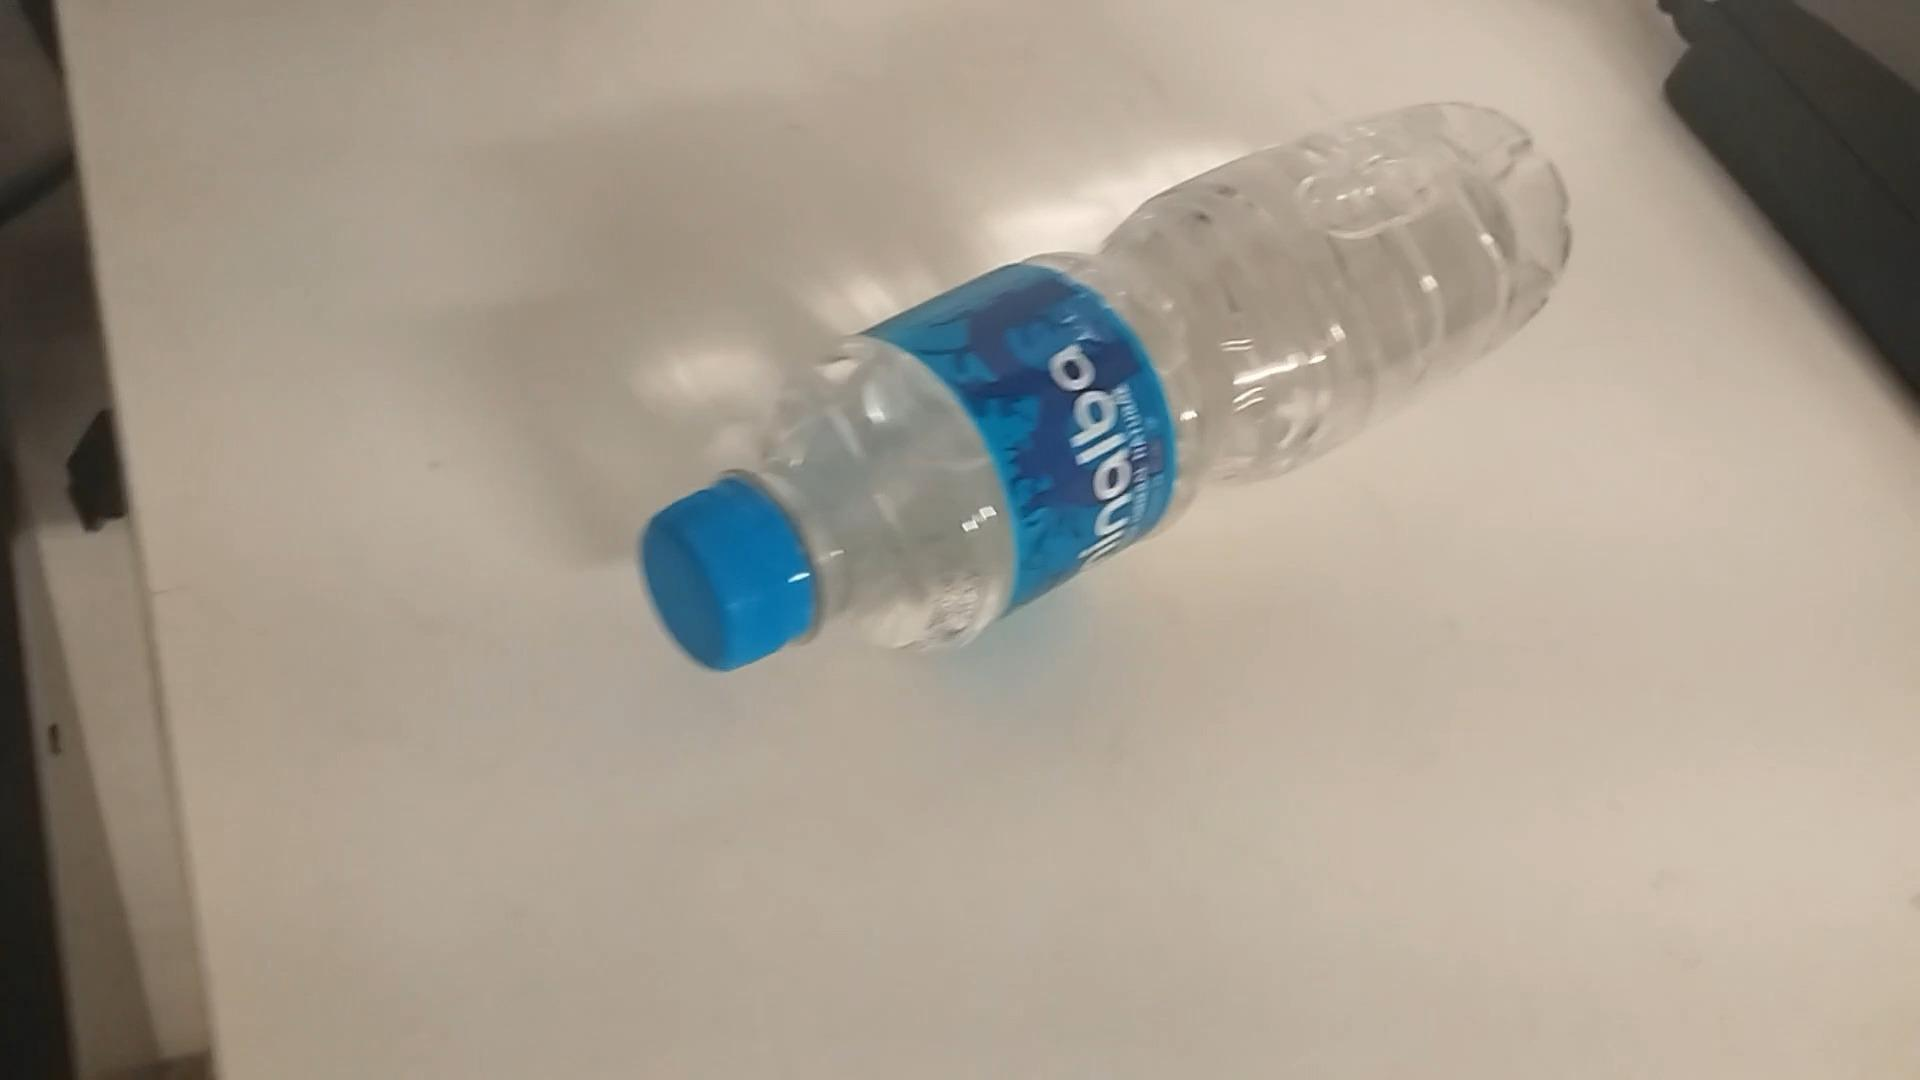agua: (632, 84, 1582, 679)
